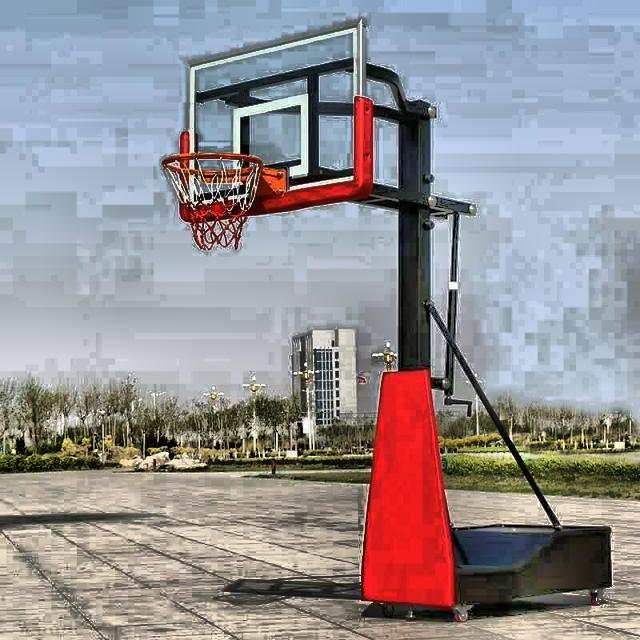rim: (158, 152, 262, 250)
